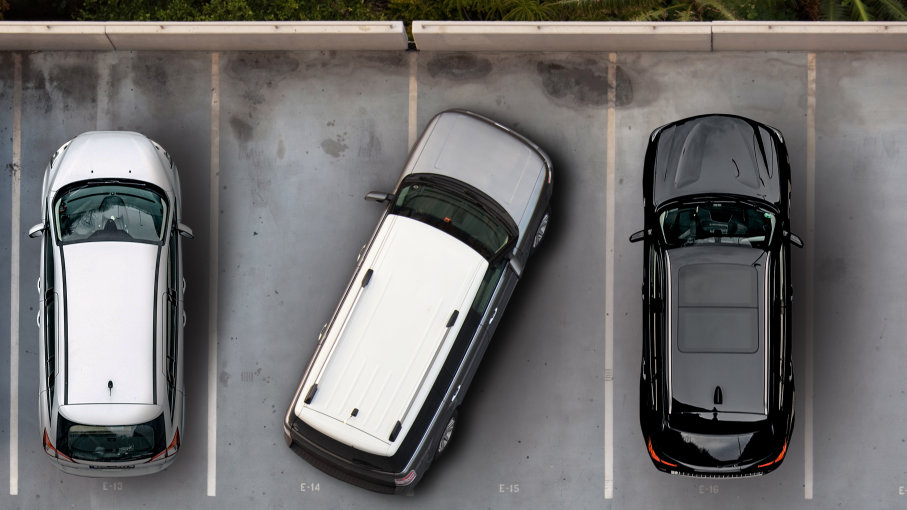car: (339, 109, 516, 475), (23, 130, 195, 481), (650, 120, 789, 488)
